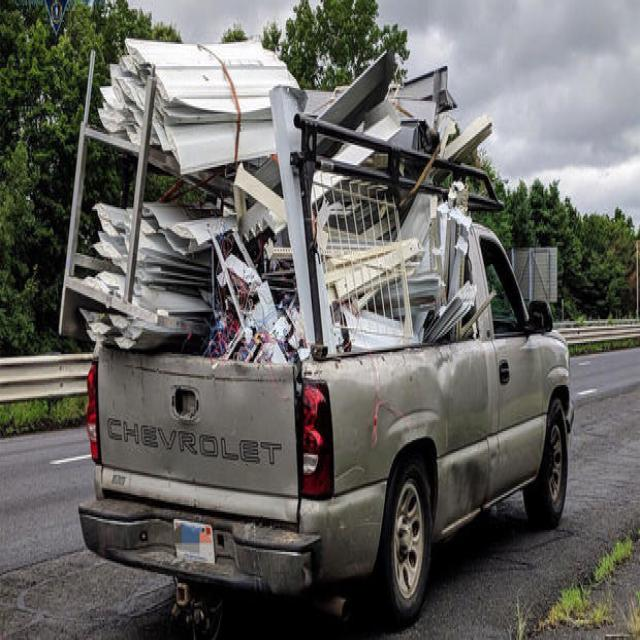overloaded_truck: (59, 33, 575, 629)
